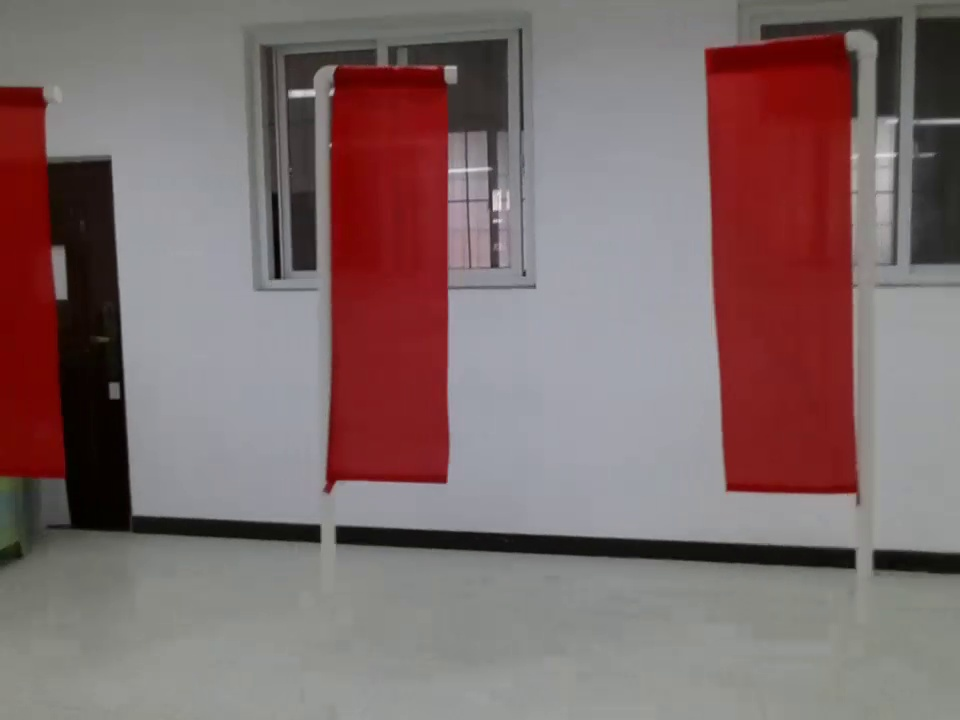qi: (712, 23, 876, 527), (311, 51, 451, 491), (3, 77, 70, 503)
